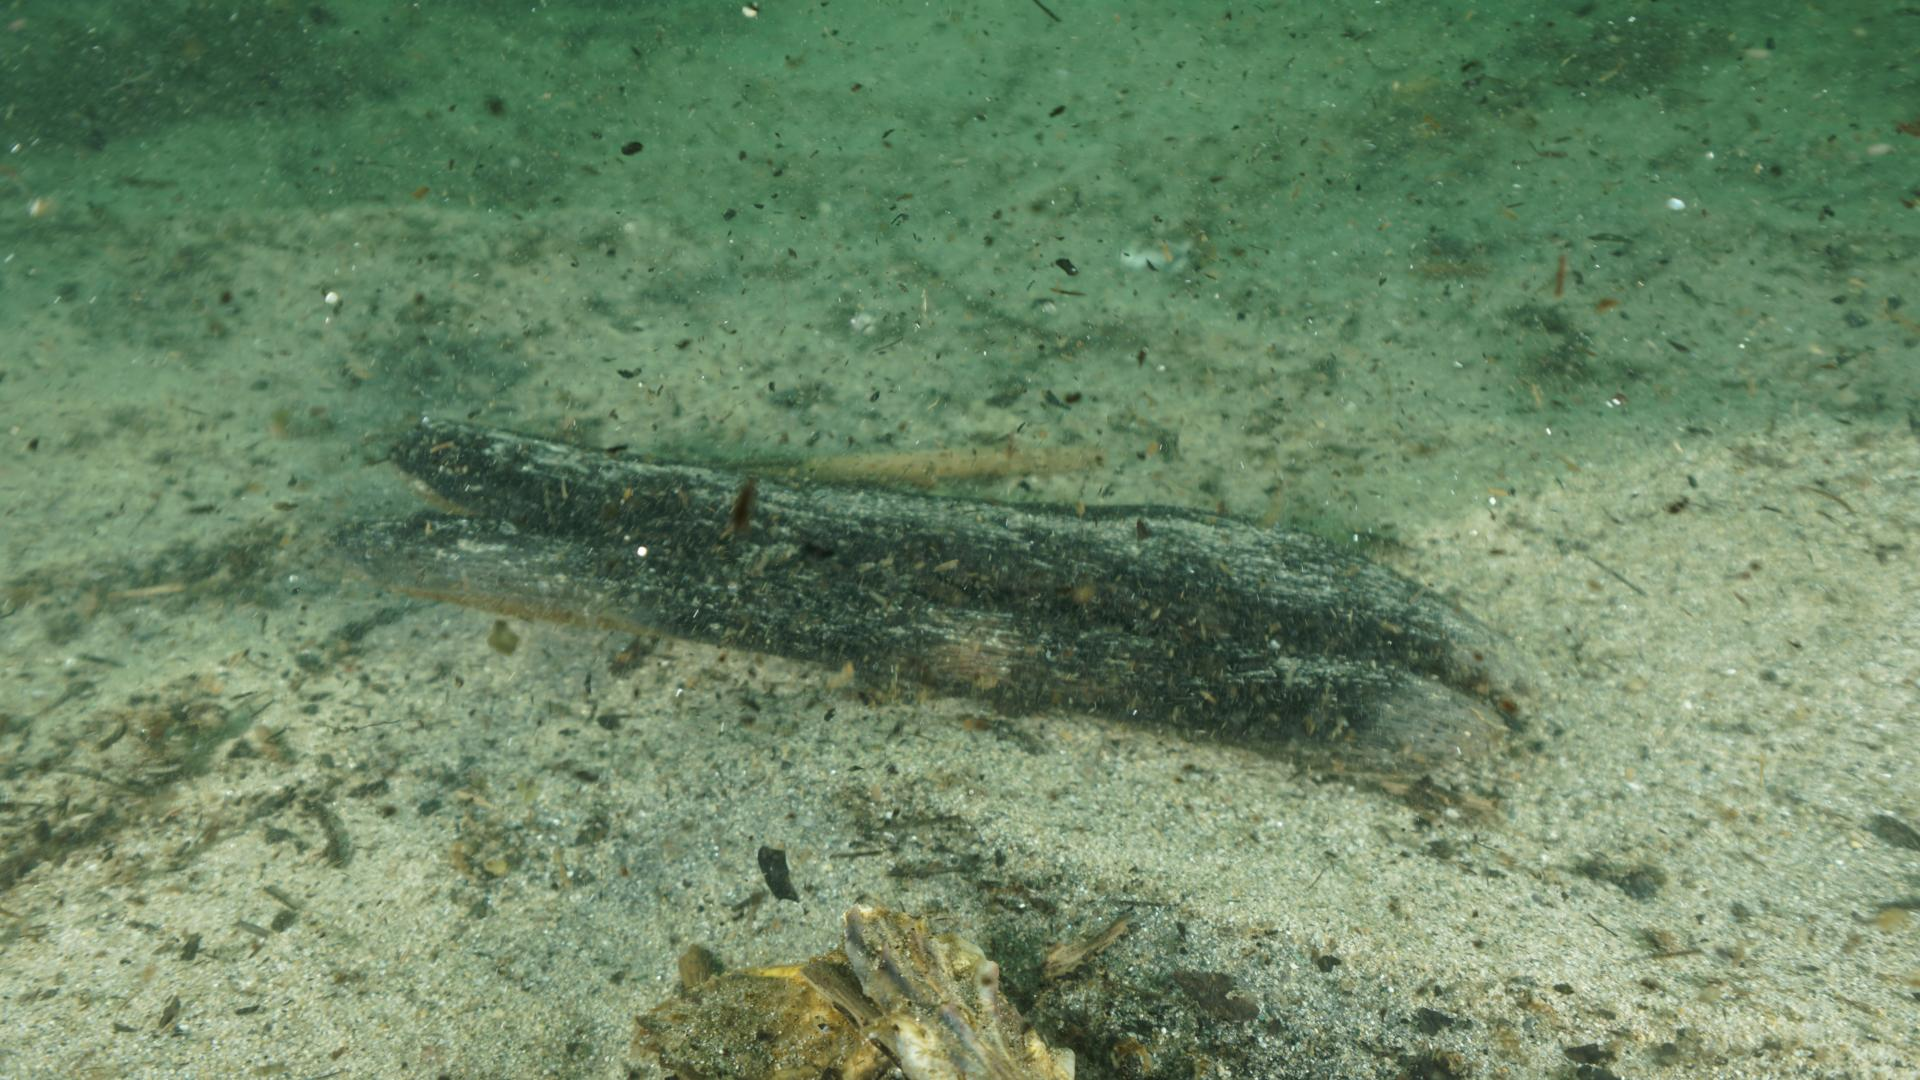wood: (272, 417, 1543, 825)
